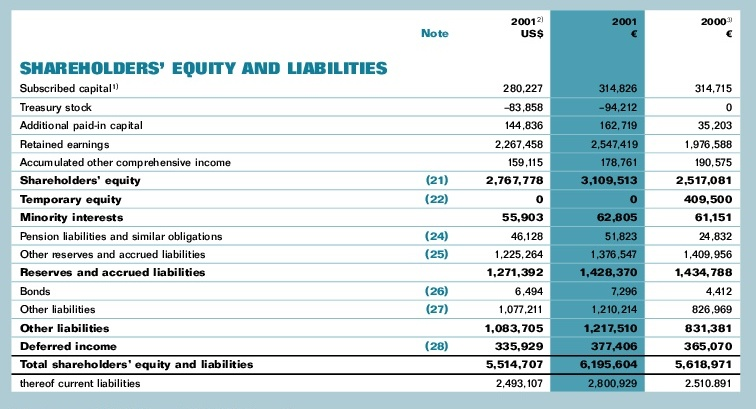table: (0, 0, 756, 409)
